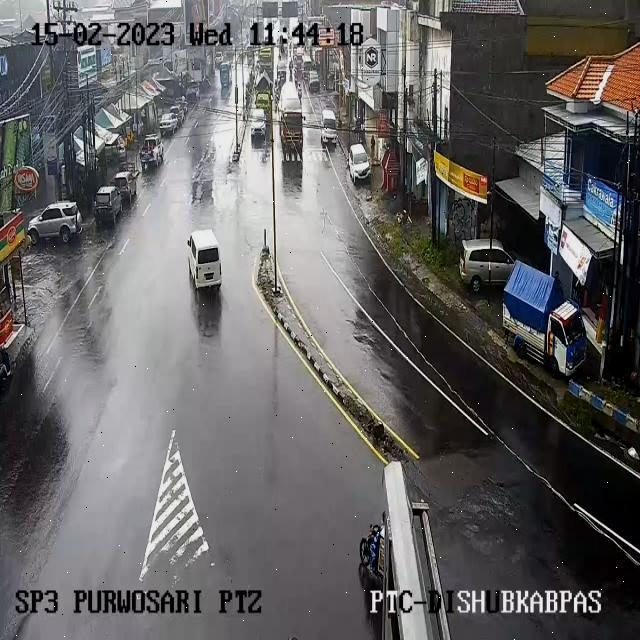Bus: (219, 62, 231, 97)
Car: (458, 240, 513, 294), (28, 200, 82, 243), (184, 230, 224, 286), (93, 186, 124, 226), (112, 168, 140, 202), (140, 134, 165, 169), (347, 144, 370, 182), (320, 109, 338, 144), (250, 108, 268, 137), (197, 80, 218, 104), (159, 113, 179, 135), (169, 105, 186, 125), (306, 71, 320, 93), (185, 85, 199, 103), (294, 59, 304, 83), (176, 100, 188, 118), (276, 61, 286, 78), (302, 55, 312, 72), (296, 46, 304, 60), (244, 38, 252, 50)
Motorbike: (297, 83, 302, 99)
Truck: (506, 259, 586, 374), (278, 80, 304, 154), (254, 80, 272, 107), (258, 46, 273, 71)
